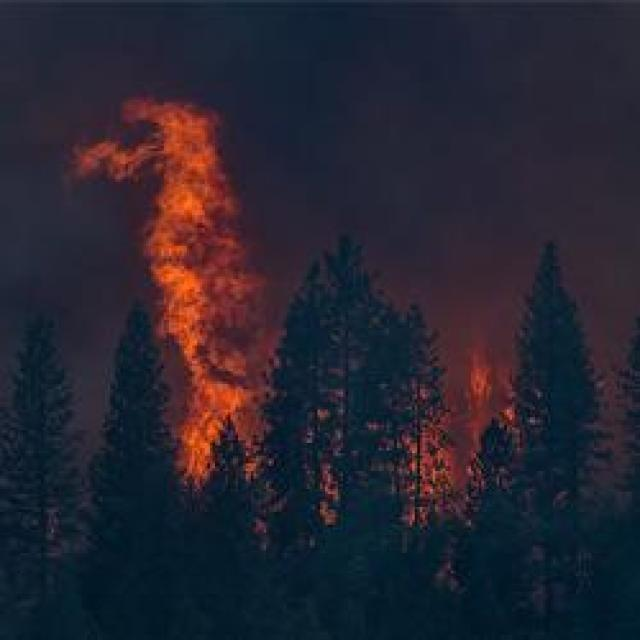Fire: (143, 103, 254, 468), (81, 136, 137, 180)
